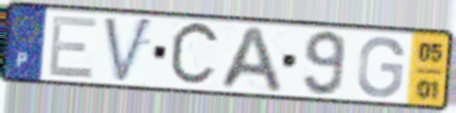9: (301, 28, 349, 99)
A: (215, 24, 286, 95)
C: (166, 19, 223, 91)
E: (45, 14, 100, 81)
G: (354, 34, 407, 100)
V: (101, 14, 156, 87)
